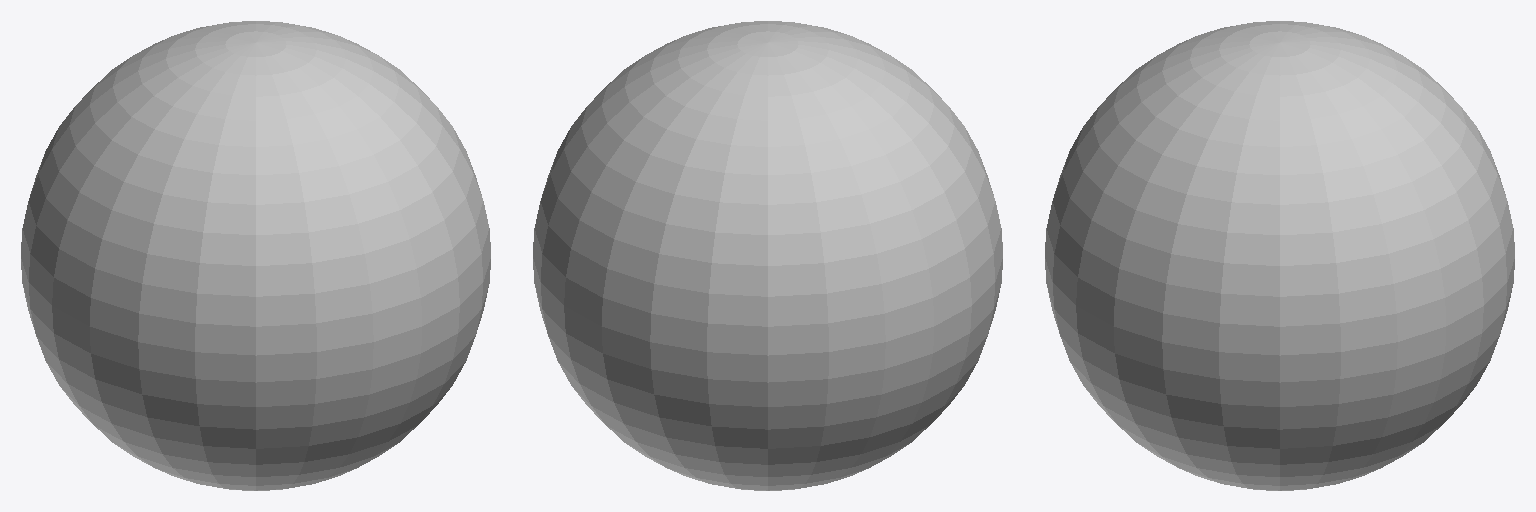
Rendered from cubicsphere.obj.
The picture shows the model from 3 angles: view 1: azimuth 30°, elevation 25°; view 2: azimuth 150°, elevation 25°; view 3: azimuth 270°, elevation 25°; orthographic projection.
Visible parts, largest first — view 1: Sphere; view 2: Sphere; view 3: Sphere.
Boxes of the visible parts, x1=… form: Sphere: x1=21, y1=21, x2=490, y2=490; Sphere: x1=533, y1=21, x2=1002, y2=490; Sphere: x1=1045, y1=21, x2=1514, y2=490.
Size of the model in its own units: 2 by 2 by 2.